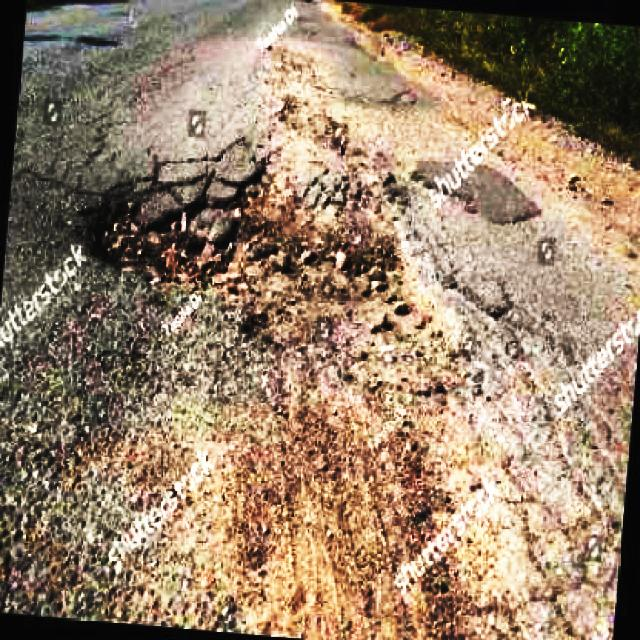pothole: (83, 162, 471, 372)
